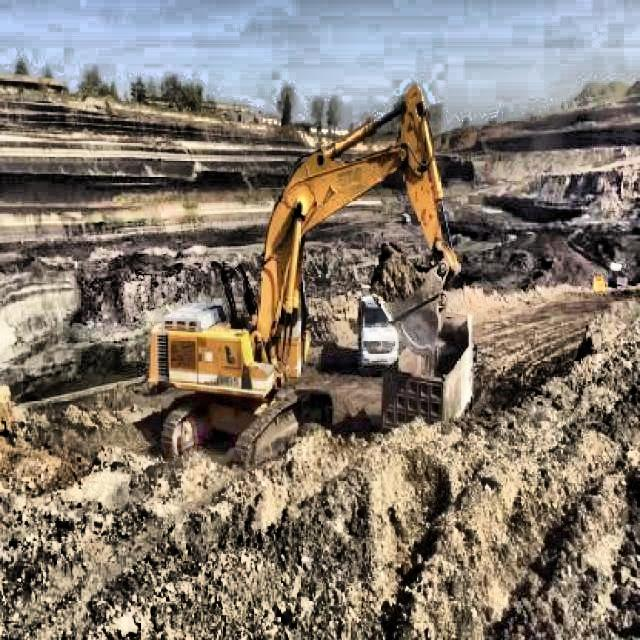dump_truck: (380, 310, 476, 436), (357, 284, 395, 370), (608, 263, 626, 294)
excavator: (144, 79, 460, 472)
